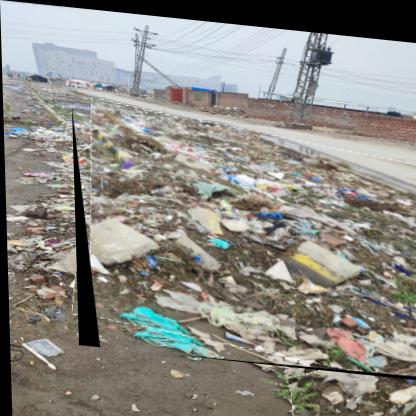Garbage: (72, 105, 416, 374), (289, 348, 416, 416)
